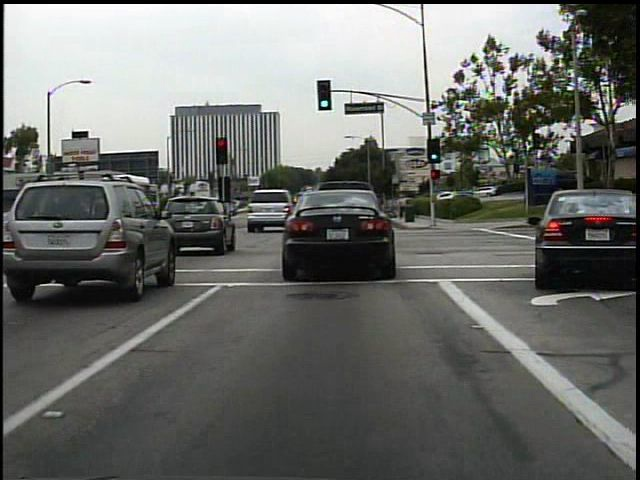person: (397, 192, 408, 221)
